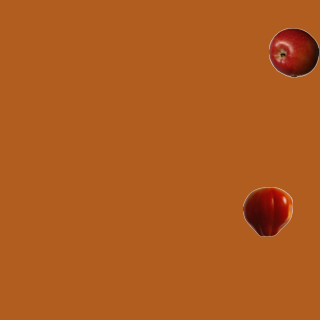Apple Braeburn: (268, 27, 318, 77)
Tomato 1: (242, 186, 292, 236)
